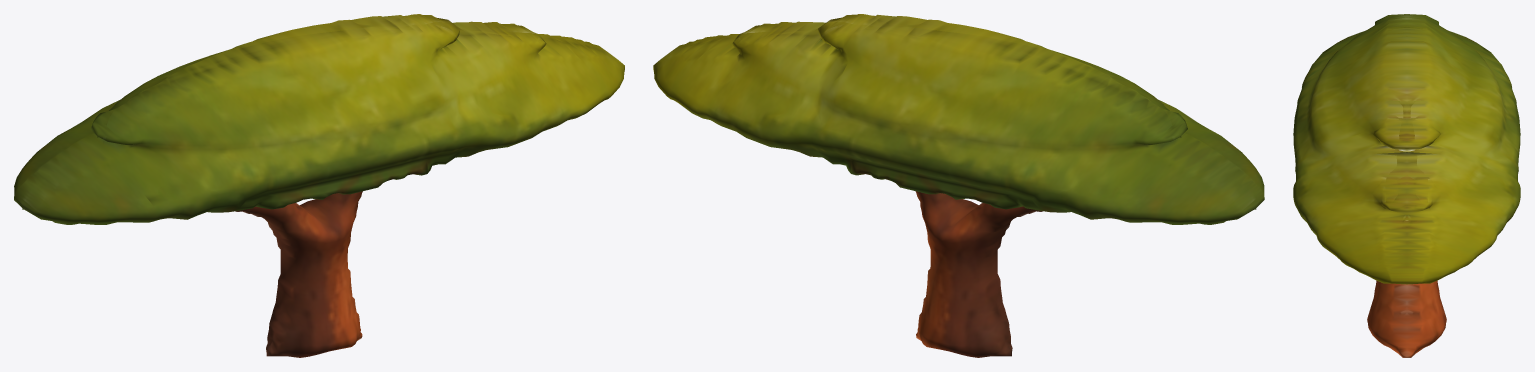
File: 02_acacia_trees_r02_c01.glb
3 views of the same model, side by side, from view 1: azimuth 30°, elevation 25°; view 2: azimuth 150°, elevation 25°; view 3: azimuth 270°, elevation 25° (orthographic). The views are drawn at different scales.
Parts seen in each view (by area): view 1: 02_acacia_trees_r02_c01; view 2: 02_acacia_trees_r02_c01; view 3: 02_acacia_trees_r02_c01.
Part boxes in pixels (x1,y1,x2,y2): 02_acacia_trees_r02_c01: (14, 14, 624, 357); 02_acacia_trees_r02_c01: (653, 14, 1264, 357); 02_acacia_trees_r02_c01: (1293, 14, 1520, 357).
Size of the model in its own units: 3.01 by 1.51 by 1.15.
1 material, 1 textured.
